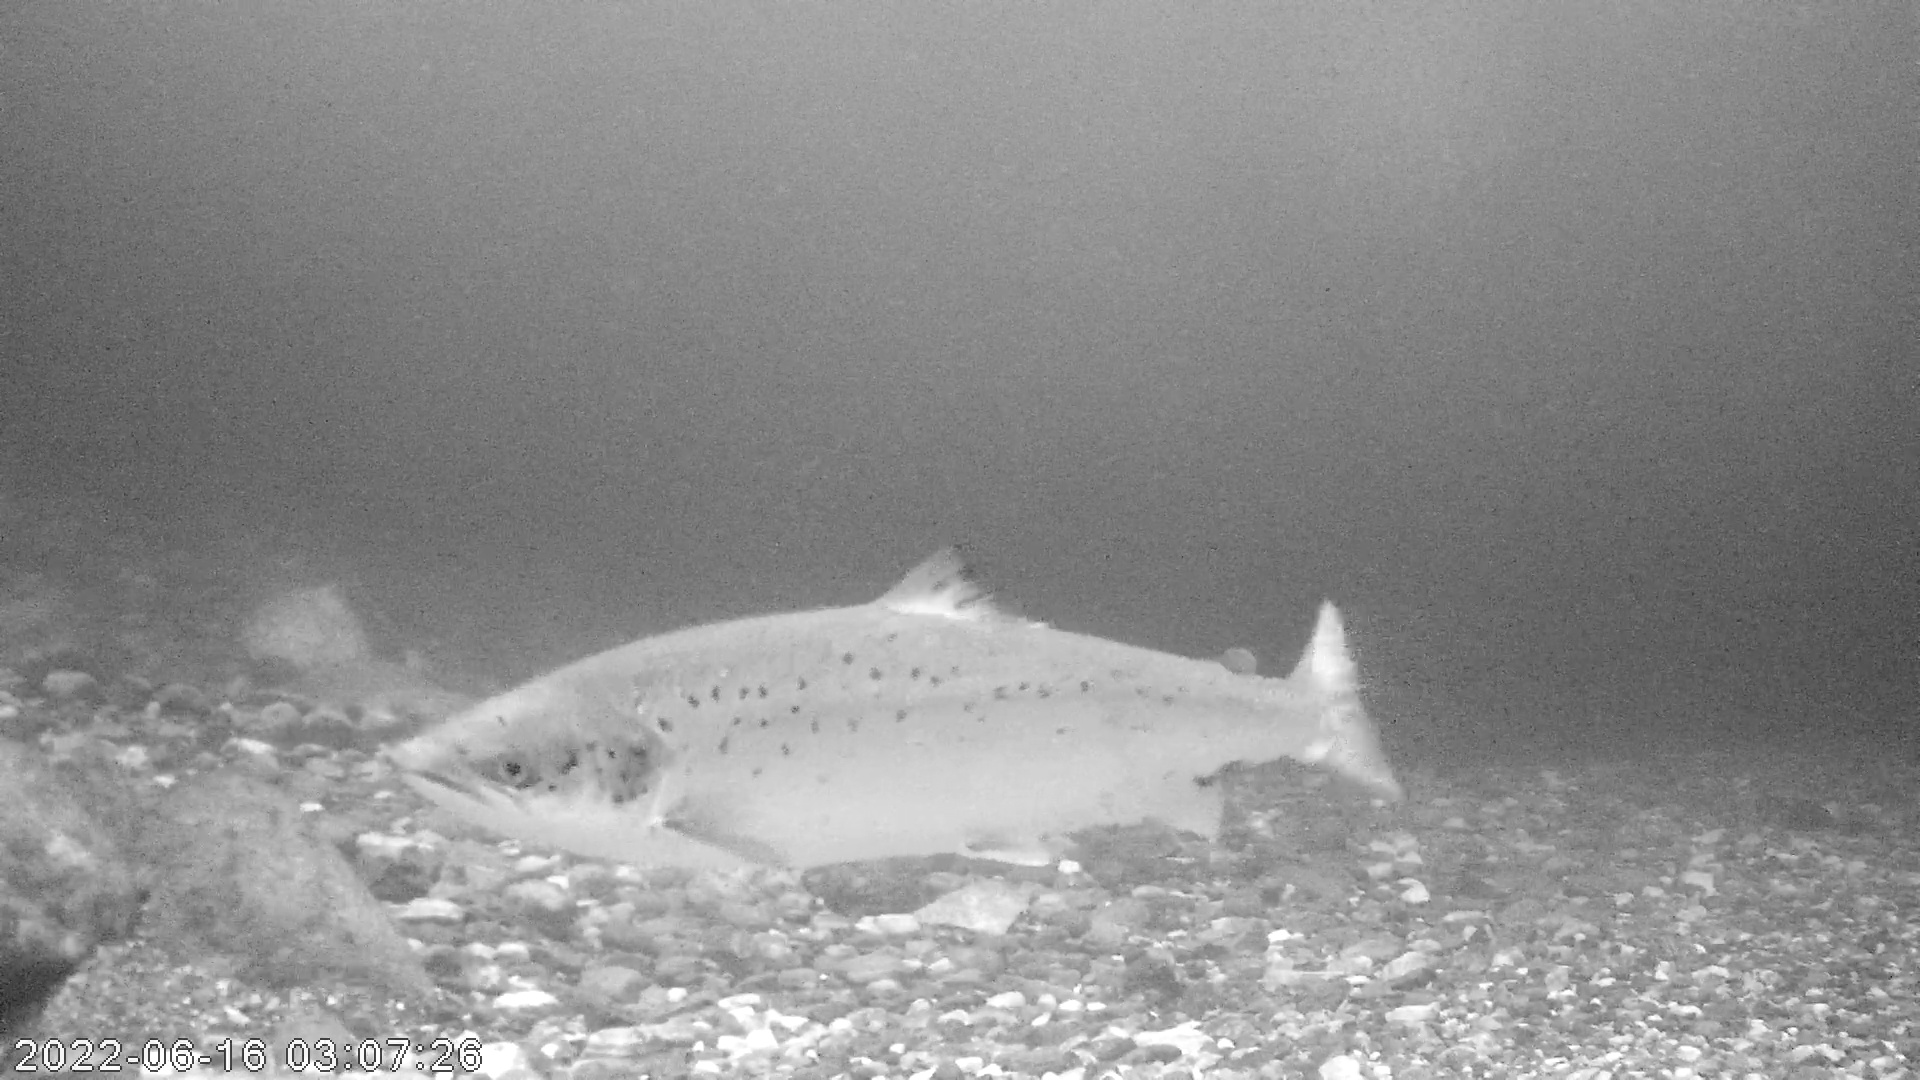salmon: (393, 538, 1410, 872)
